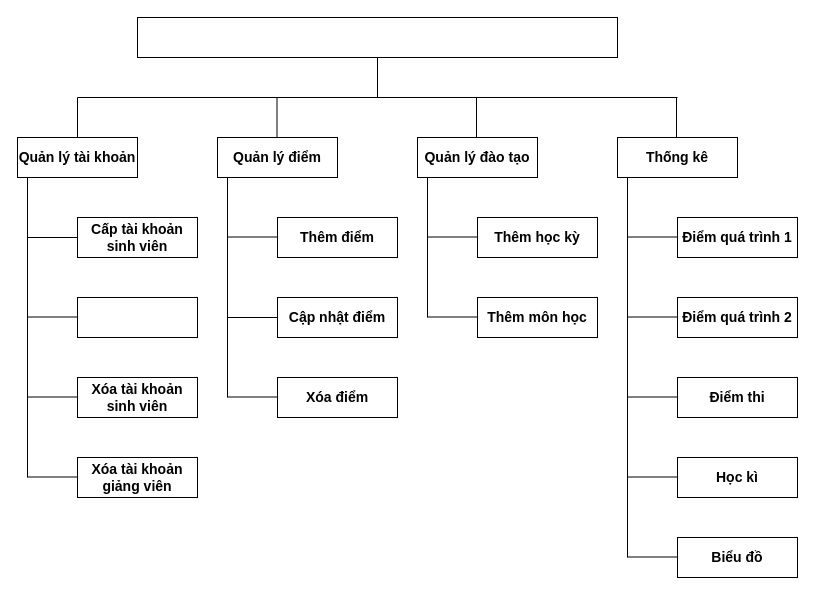
The diagram is 815 pixels wide and 595 high, and some of its shapes have lost their labels. The centre of each missing label's shape, as x and y in pixels:
"Cấp tài khoản giảng viên" goes at pixel 137 317.
"Hệ Thống Quản Lý Điểm Thi" goes at pixel 377 37.
